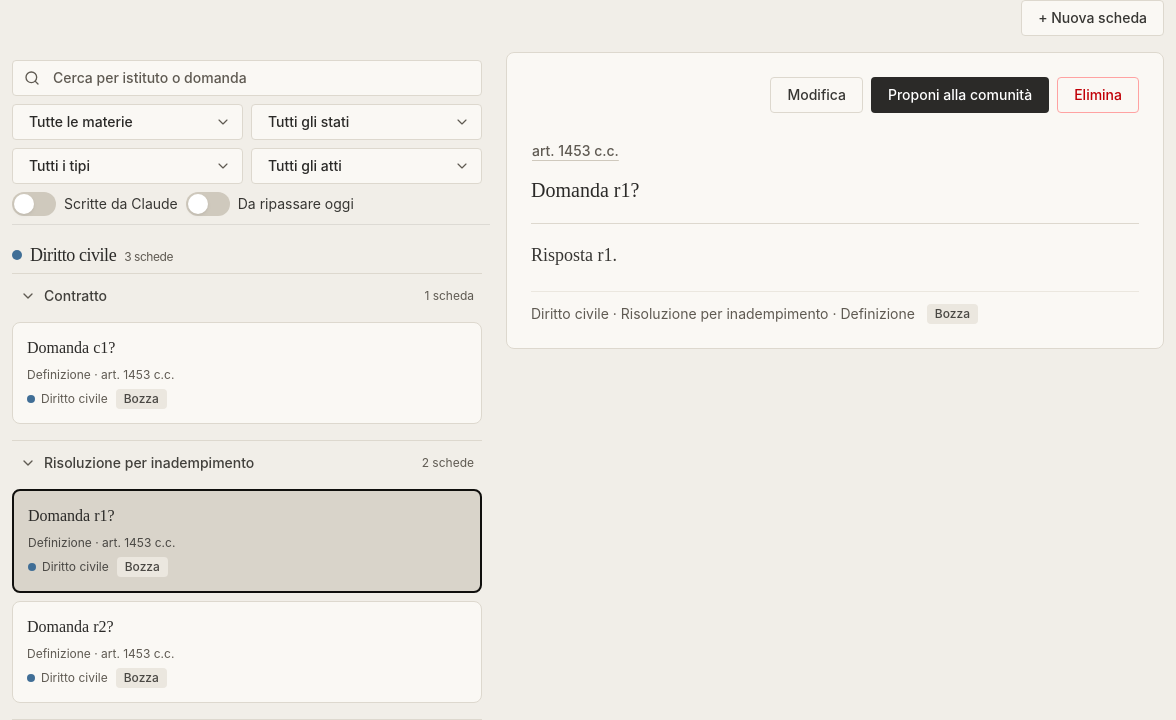
Test: «Le mie schede», delete › says plainly when the card can no longer be deleted, and stays on it
Click the button "Elimina" at (1098, 95), box [1057, 77, 1139, 113]
(page scrolled)
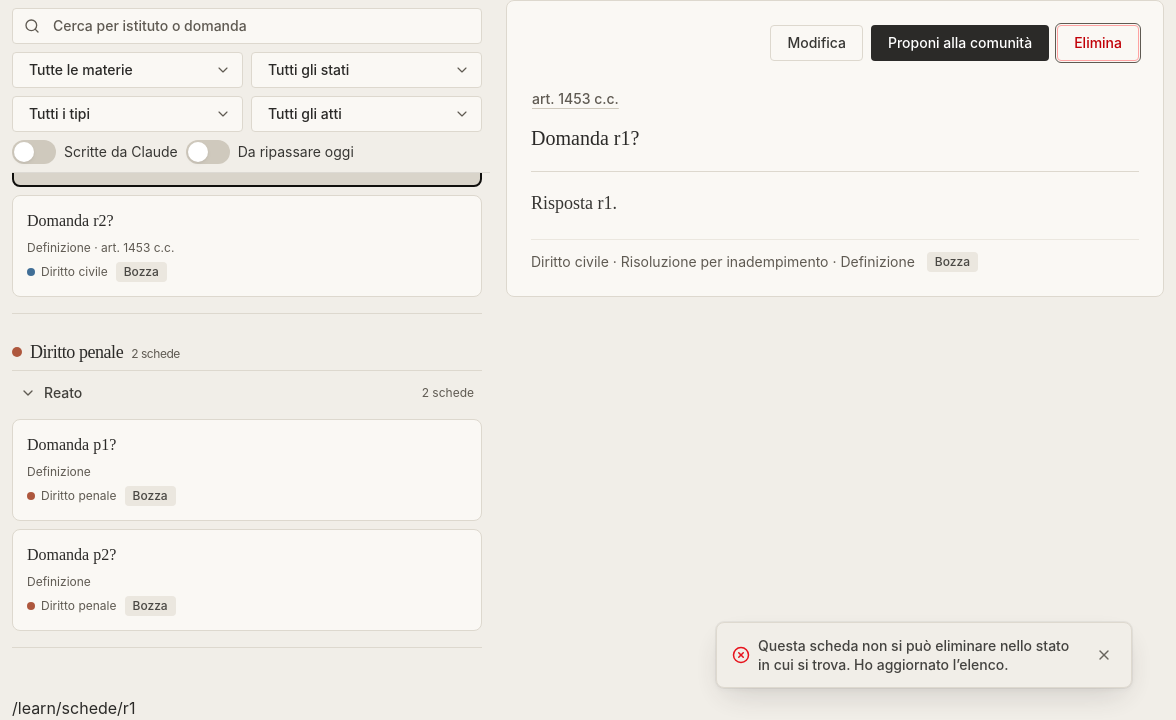
Expected: the text with test id "where" reads "/learn/schede/r1", [12, 698, 135, 718]
Expected: the text "non si può eliminare nello stato in cui si trova" is shown, [758, 636, 1069, 673]
